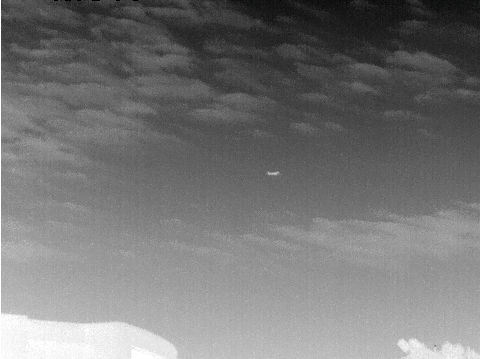dim target: (264, 169, 280, 177)
